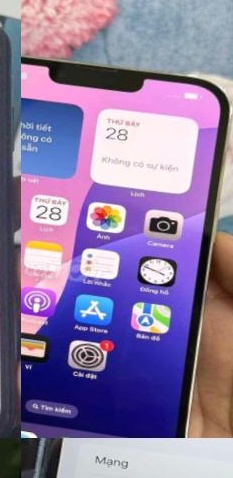scratch: (21, 438, 109, 478)
